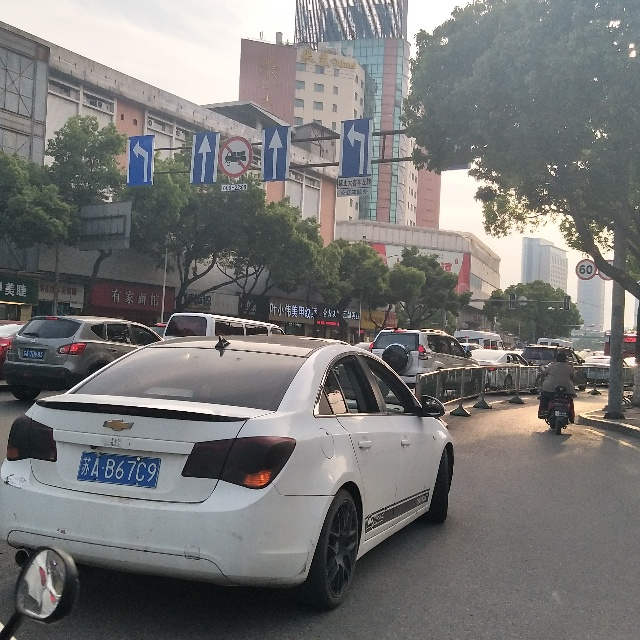left: (343, 121, 369, 177), (129, 136, 153, 185)
straight: (265, 128, 291, 179), (197, 134, 215, 185)
